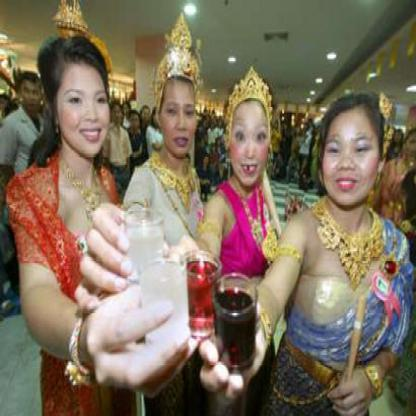face: (321, 98, 382, 211), (59, 43, 115, 160), (230, 90, 271, 188), (162, 68, 200, 158), (24, 76, 43, 115)
